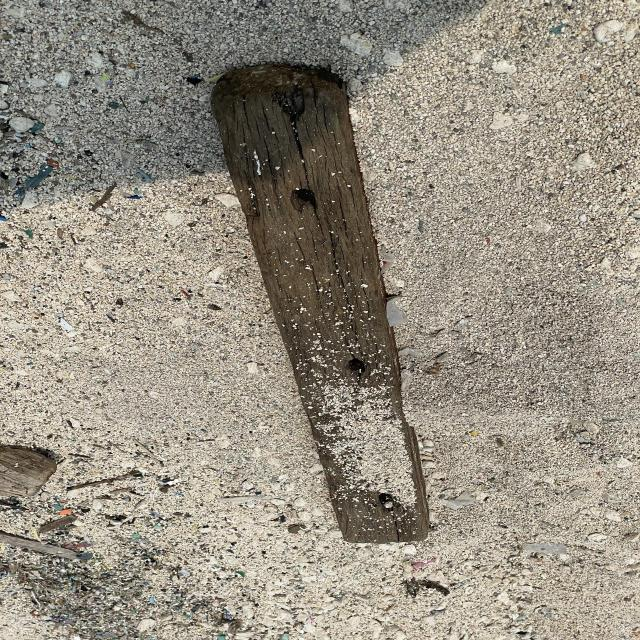wood_waste: (212, 66, 431, 544)
